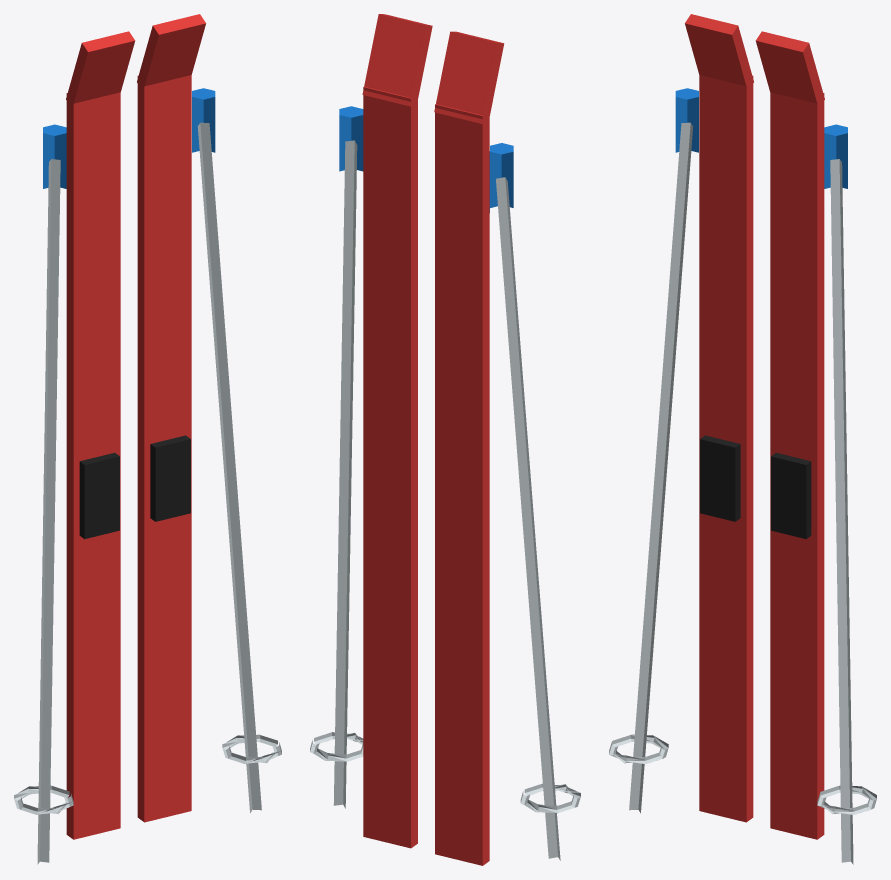
File: skida.glb
3 views of the same model, side by side, from view 1: azimuth 30°, elevation 25°; view 2: azimuth 150°, elevation 25°; view 3: azimuth 330°, elevation 25° (orthographic).
Visible parts, largest first — view 1: skida; view 2: skida; view 3: skida.
Part boxes in pixels (x1=…): skida: x1=14, y1=14, x2=281, y2=864; skida: x1=310, y1=14, x2=580, y2=865; skida: x1=609, y1=14, x2=876, y2=864.
Size of the model in its own units: 0.4429 by 1.3 by 0.1184.
